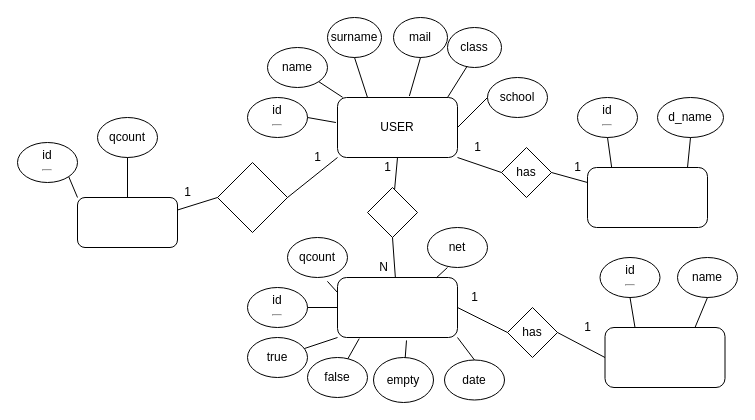
Image size: 755x420. Some labels were removed from this diagram. Each missing label, with the box of its shape:
DEPARTMENT: (586, 166, 708, 228)
determines: (216, 162, 288, 232)
GOAL: (76, 196, 178, 248)
LESSON: (604, 326, 725, 388)
QUESTION: (336, 276, 458, 338)
solve: (366, 186, 418, 238)
